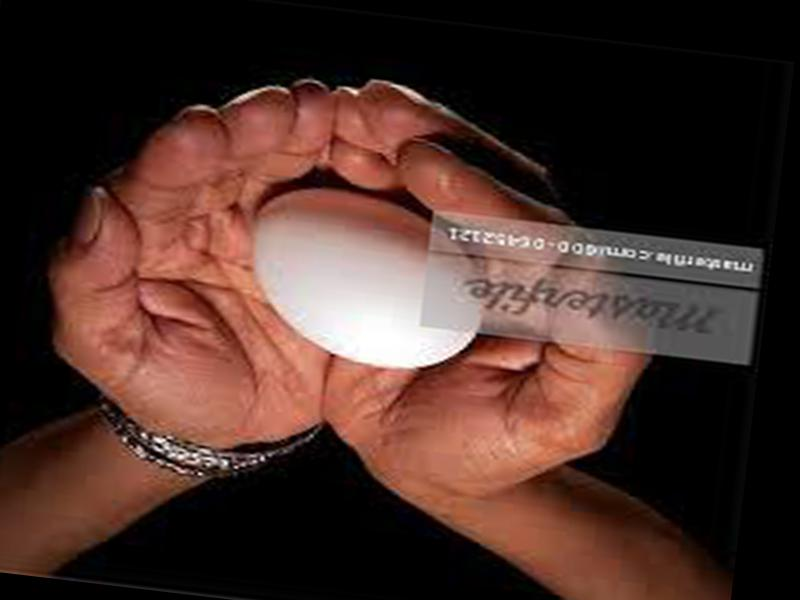Eggs: (237, 177, 487, 374)
